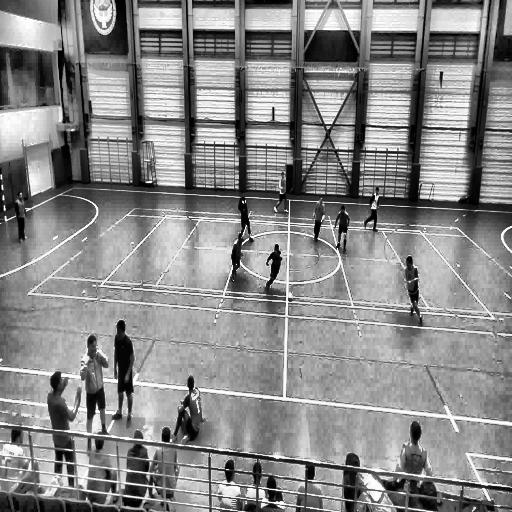ball: (287, 292, 293, 302)
player: (47, 371, 82, 479), (81, 334, 109, 444), (112, 319, 134, 427), (404, 255, 422, 325), (266, 242, 282, 292), (334, 204, 350, 254), (238, 194, 253, 241), (364, 188, 380, 231), (14, 191, 28, 240), (230, 232, 242, 282), (274, 170, 288, 212), (313, 197, 325, 241)
